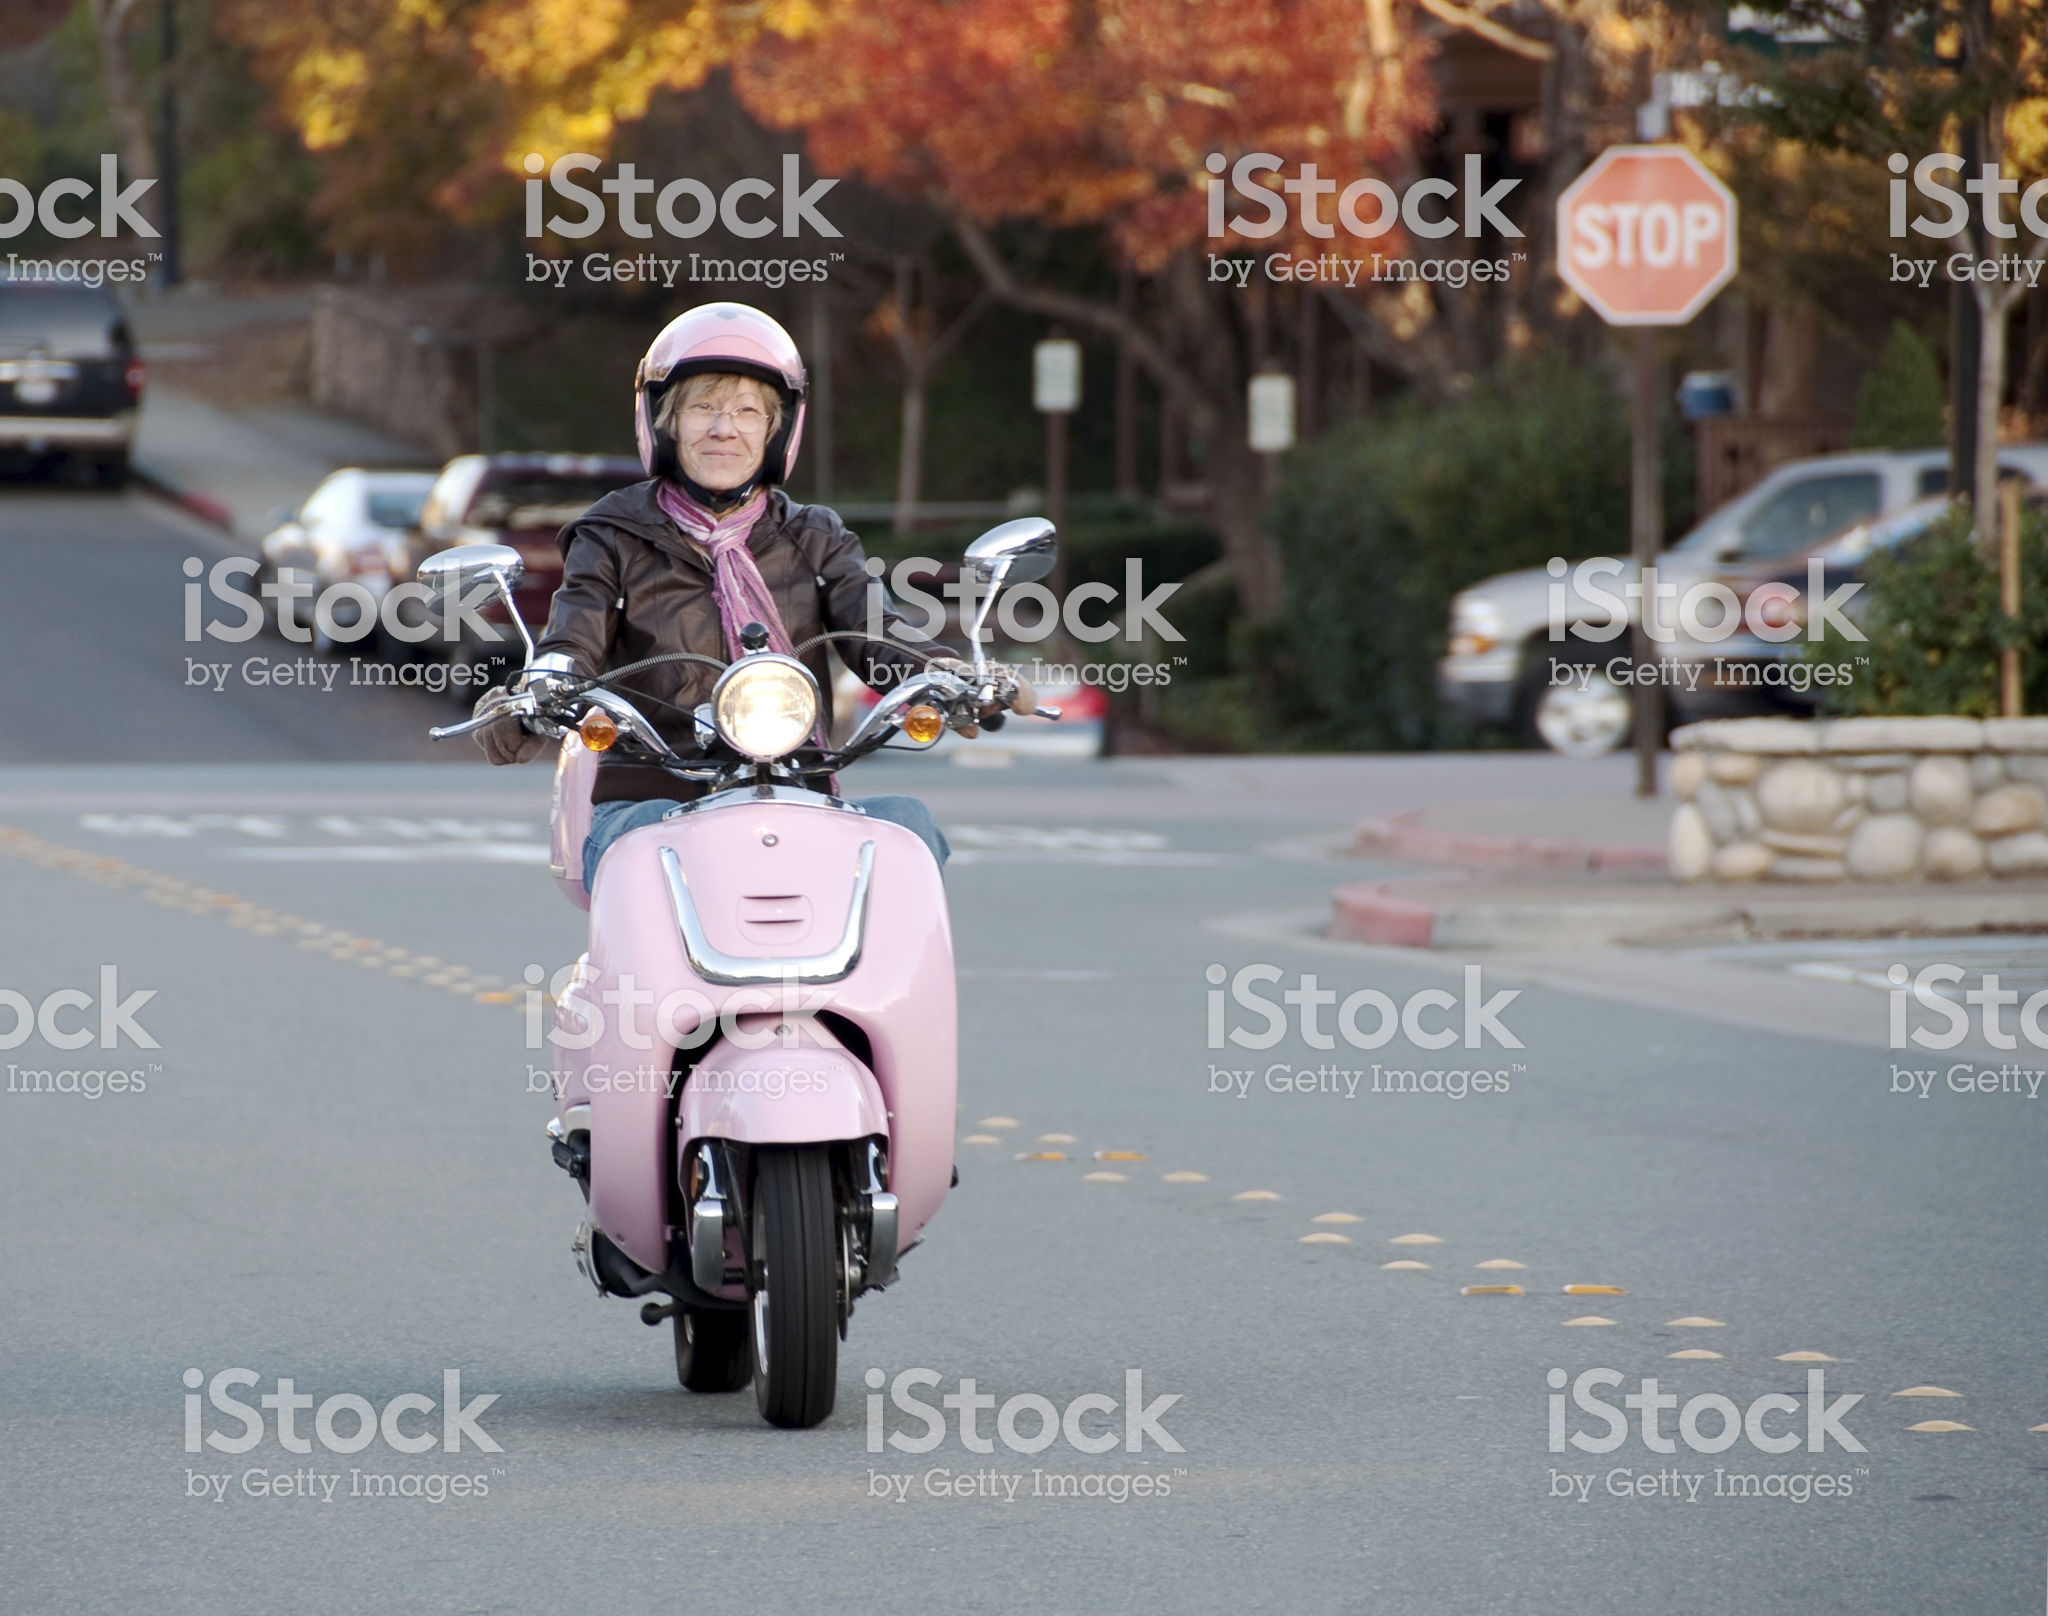helmet: (633, 261, 830, 510)
